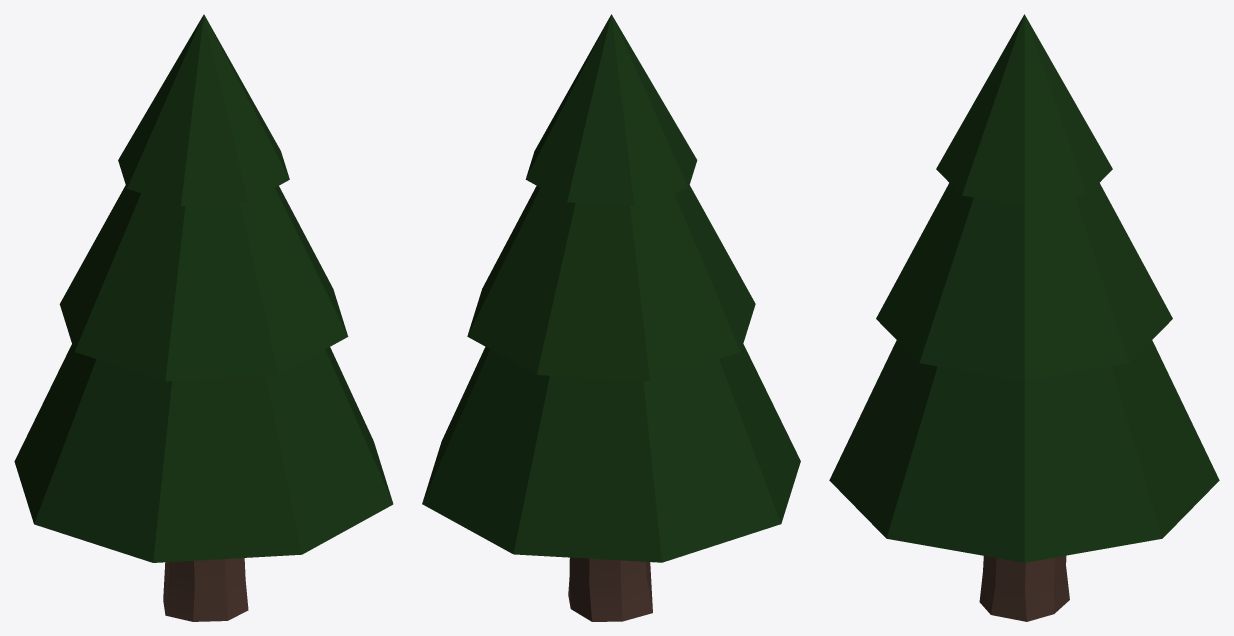
File: Tree2.fbx
3 renders of one model, left to right at view 1: azimuth 30°, elevation 25°; view 2: azimuth 150°, elevation 25°; view 3: azimuth 270°, elevation 25°, orthographic.
Parts seen in each view (by area): view 1: tree:pCylinder1; view 2: tree:pCylinder1; view 3: tree:pCylinder1.
Part boxes in pixels (x1,y1,x2,y2): tree:pCylinder1: [14, 14, 393, 621]; tree:pCylinder1: [422, 14, 800, 621]; tree:pCylinder1: [829, 14, 1219, 621].
Bounding box in the file's own units: 4.74 × 7.88 × 4.74.
